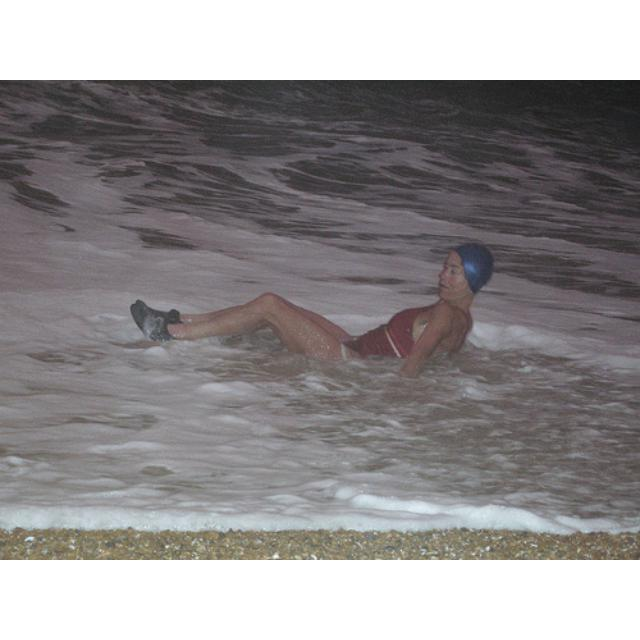human: (122, 238, 499, 372)
